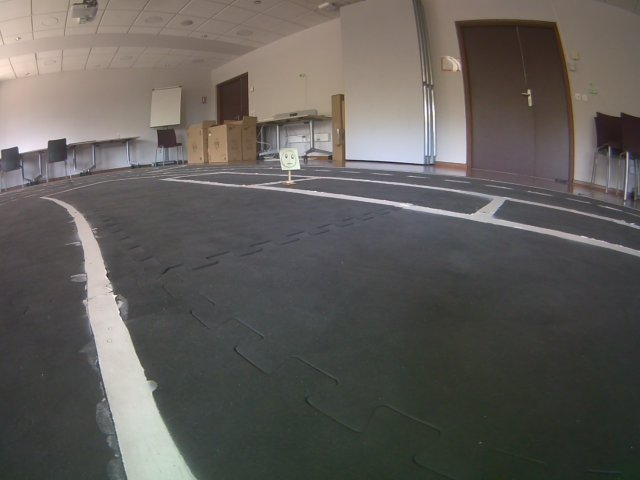Smiley: (276, 146, 302, 171)
